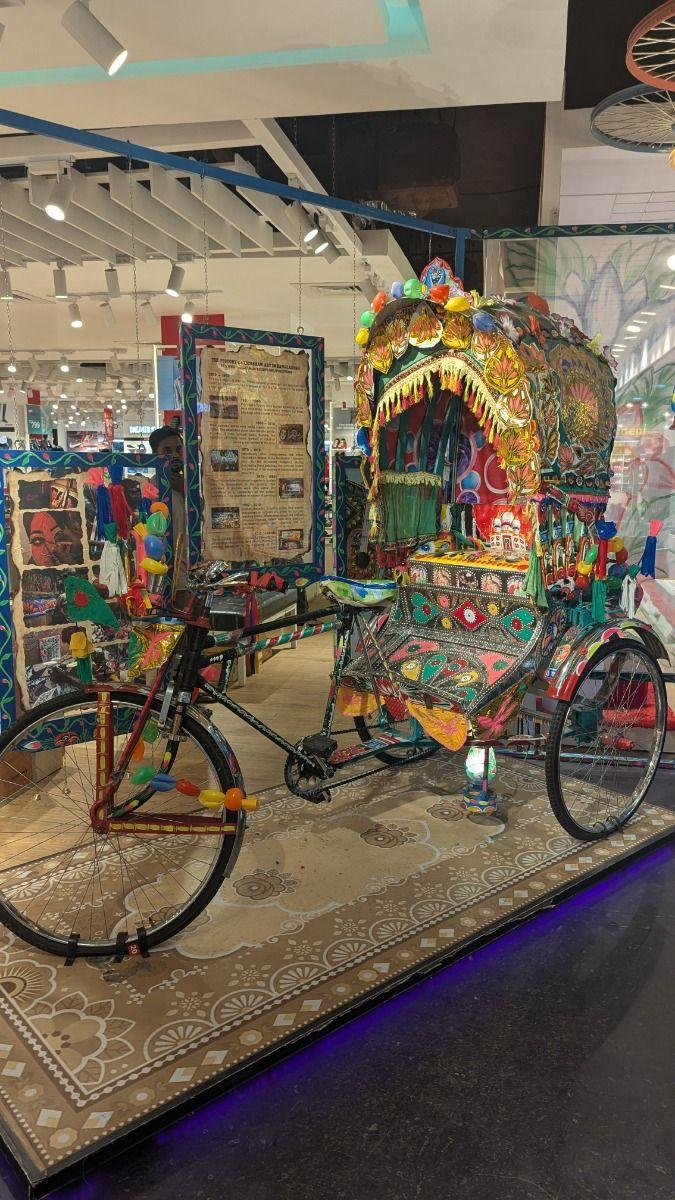Rickshaw: (0, 260, 669, 956)
